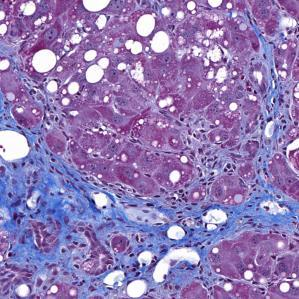fibrosis: (11, 164, 148, 260)
